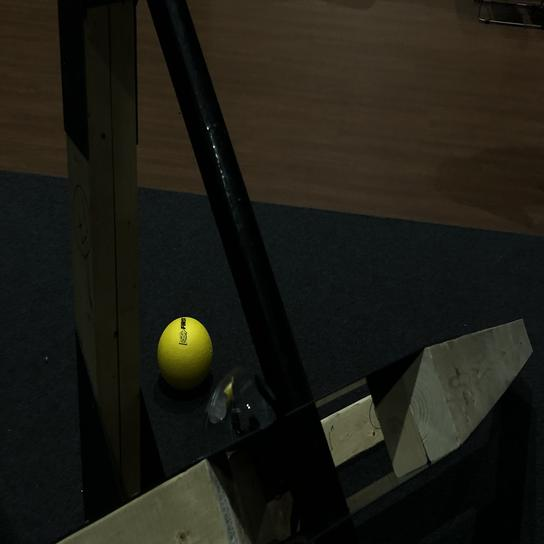ball: (152, 311, 214, 396)
